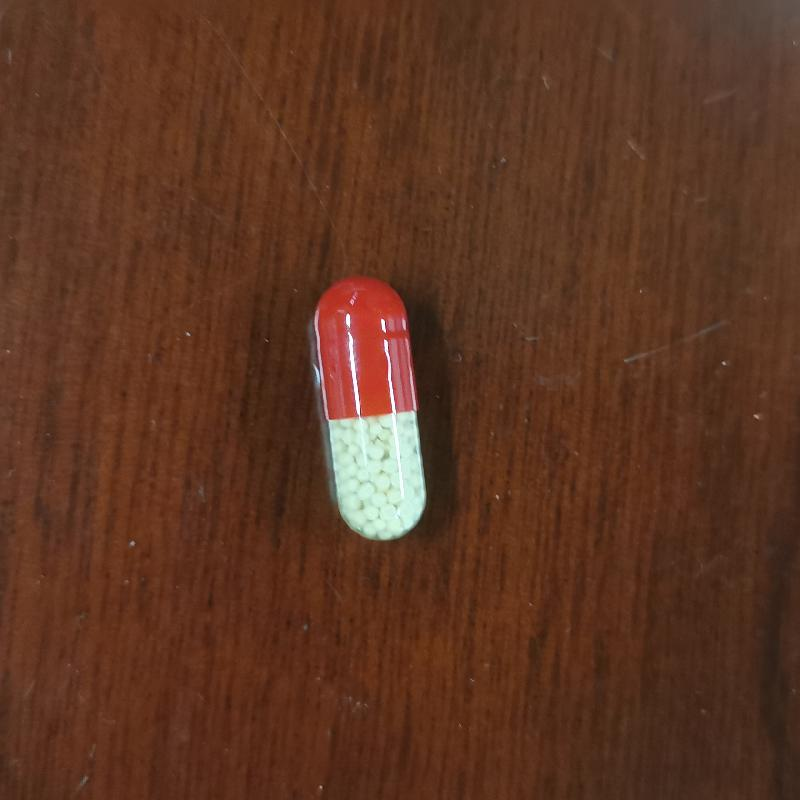pills: (294, 254, 452, 557)
